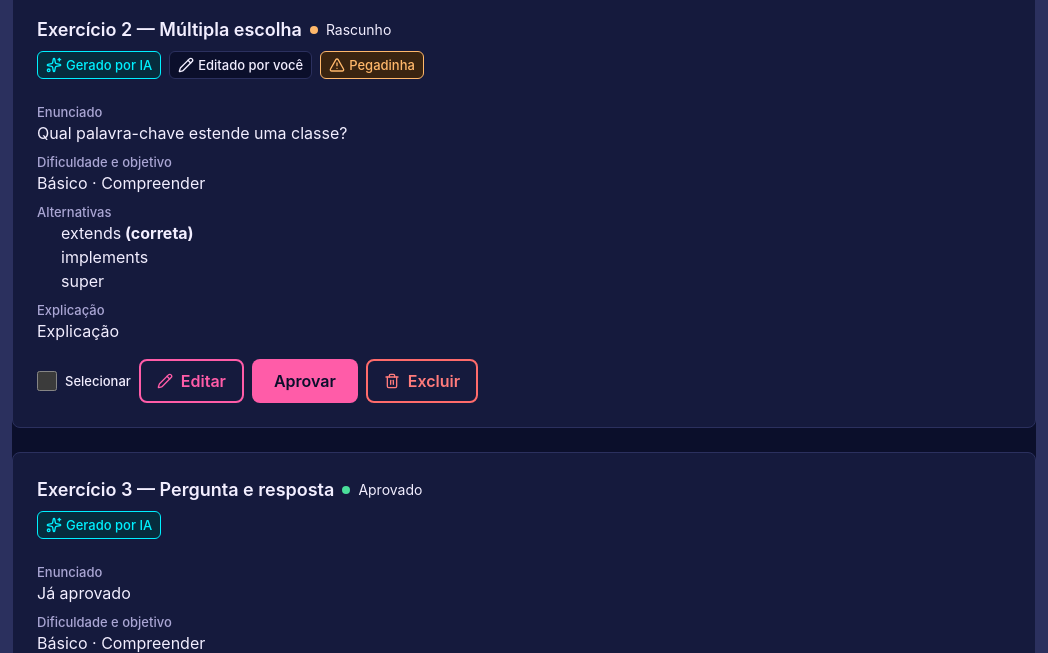
Test: 010/US4 BatchReview — revisar o lote gerado › 010/US4-2 edita um rascunho no lugar e envia o conteúdo com a versão
(page scrolled)
Click the button "Editar": click(191, 381) [139, 359, 244, 403]
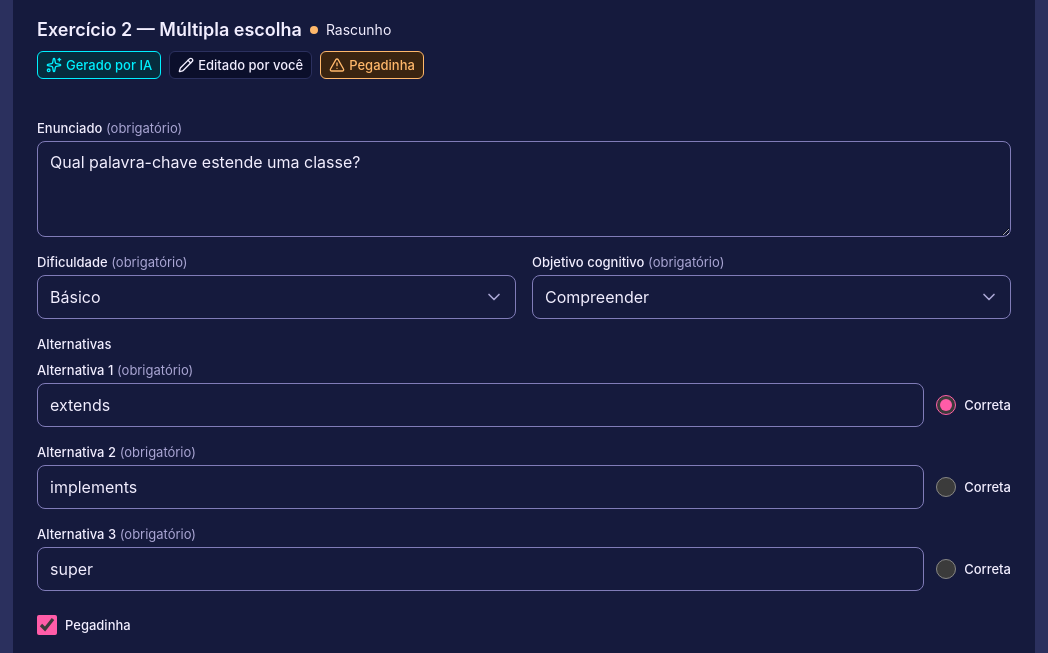
Replace the text in the text box labelled "Enunciado (obrigatório)" with "Qual palavra-chave cria uma subclasse?": (524, 189) [37, 141, 1011, 237]
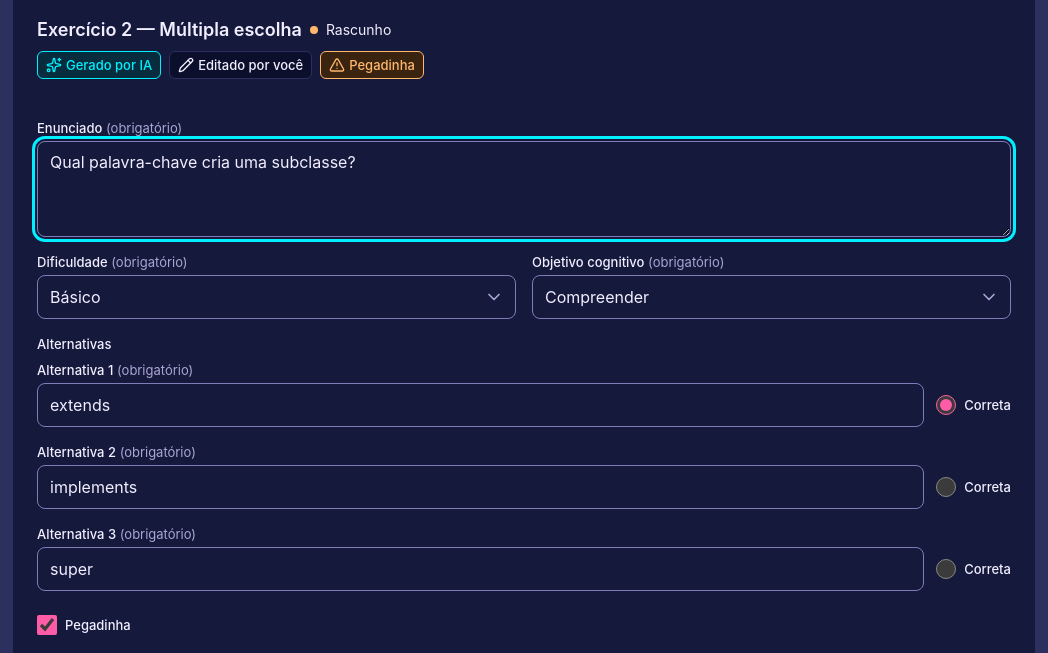
Click the radio button named "Correta (alternativa 2)": click(946, 487) [936, 477, 956, 497]
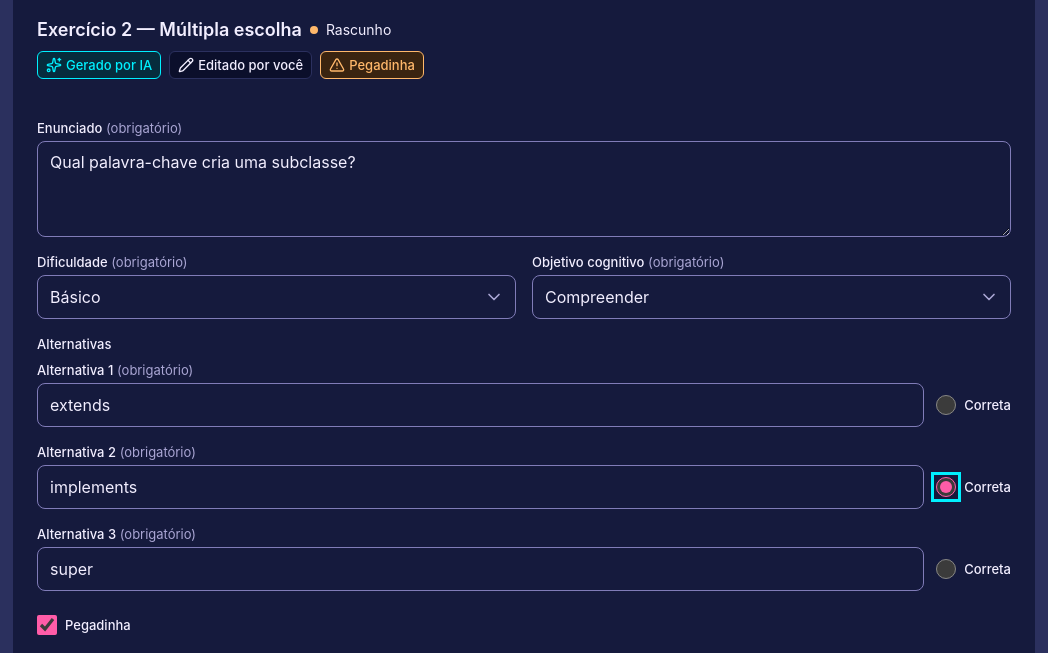
Click the radio button named "Correta (alternativa 1)": click(946, 405) [936, 395, 956, 415]
(page scrolled)
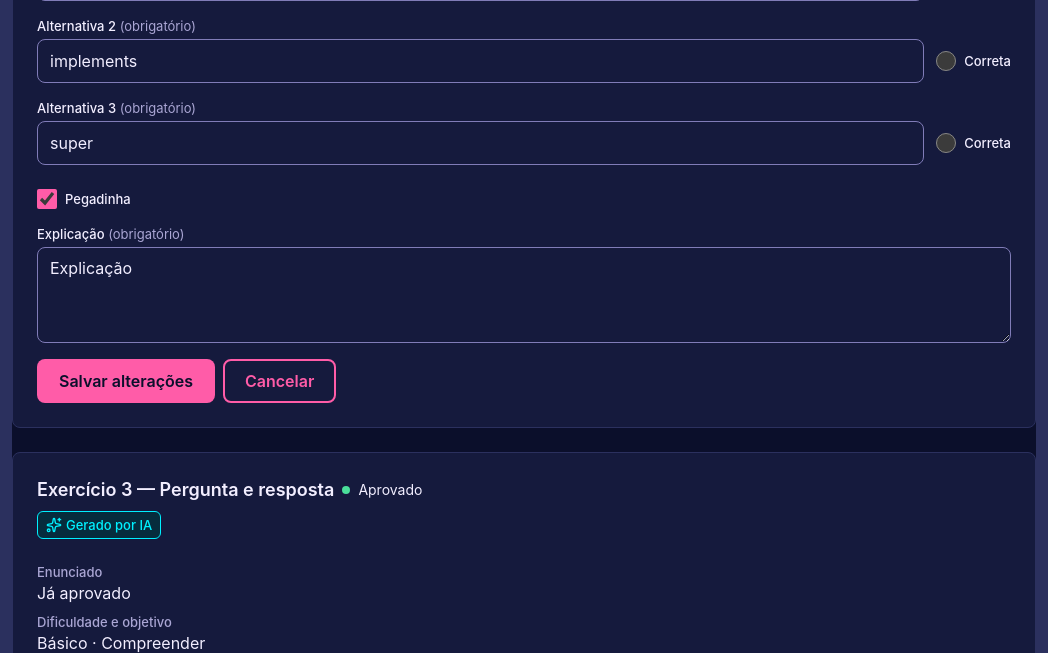
Click the button "Salvar alterações": click(126, 381) [37, 359, 215, 403]
(page scrolled)
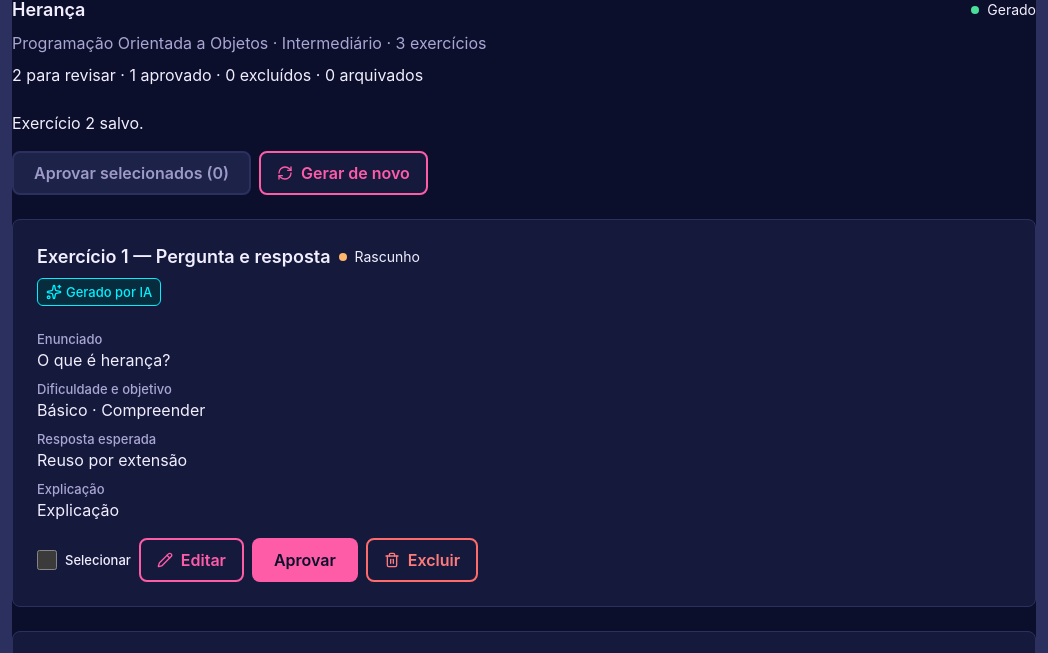
Expected: the text "Exercício 2 salvo." is shown, [12, 113, 144, 133]
